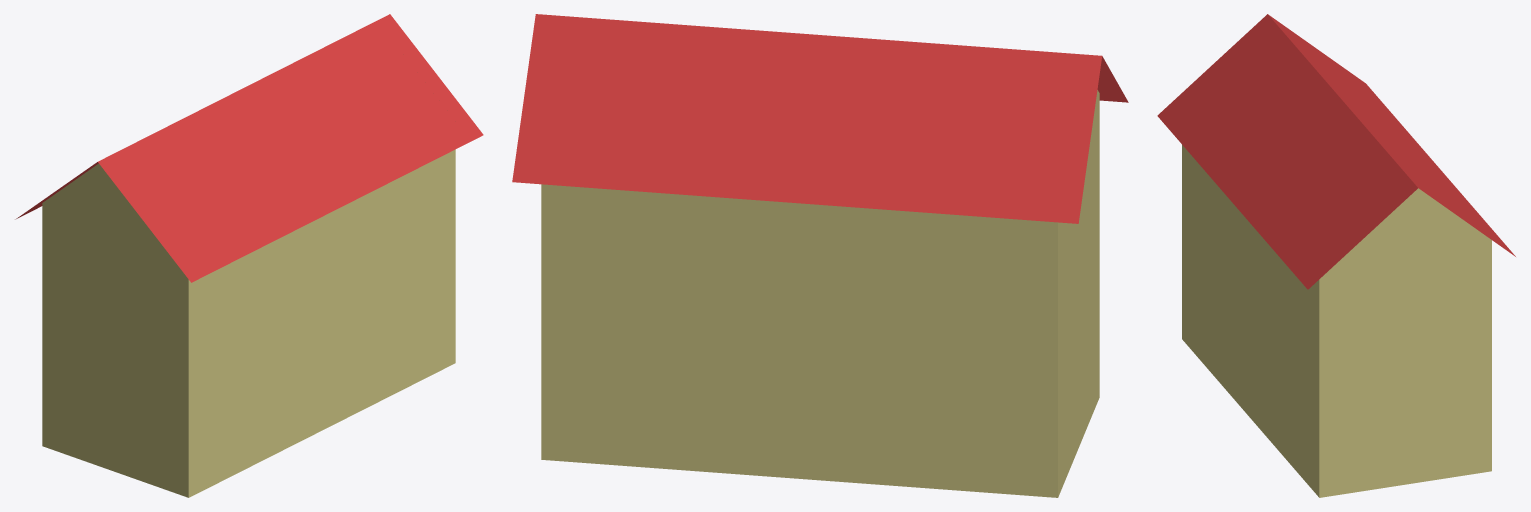
3 views of the same model, side by side, from view 1: azimuth 30°, elevation 25°; view 2: azimuth 150°, elevation 25°; view 3: azimuth 270°, elevation 25° (orthographic). The views are drawn at different scales.
Bounding box in the file's own units: 12.67 × 9.33 × 8.68.
